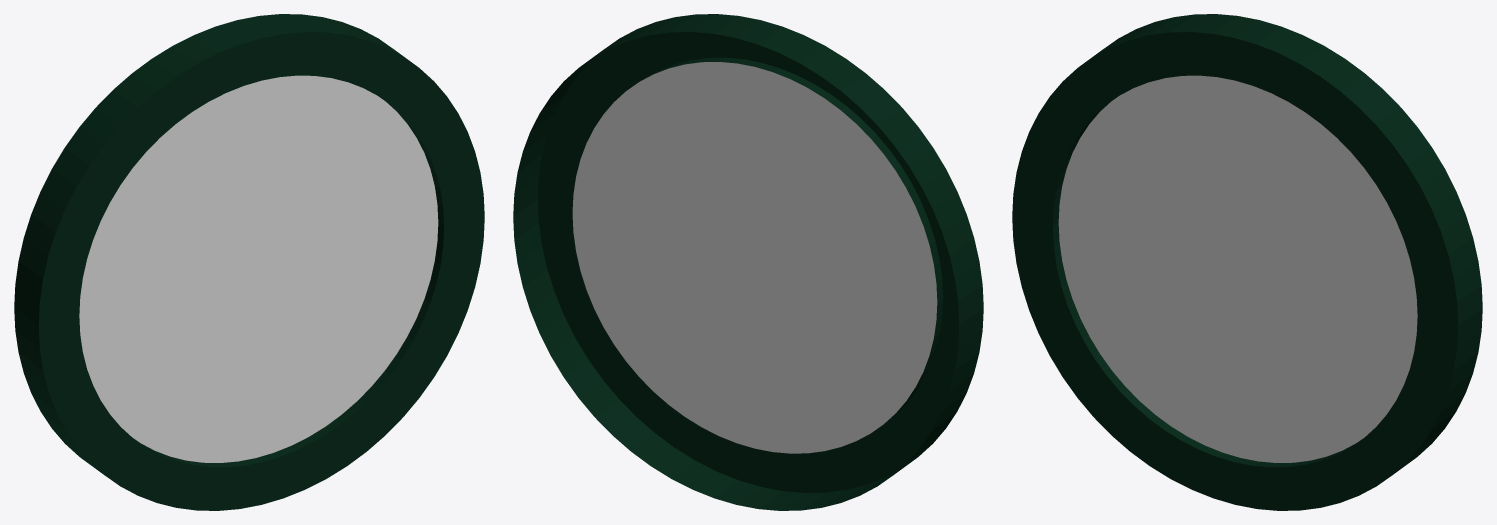
File: DotOutlined.glb
The picture shows the model from 3 angles, left to right: view 1: azimuth 30°, elevation 25°; view 2: azimuth 150°, elevation 25°; view 3: azimuth 330°, elevation 25°; orthographic projection.
Visible parts, largest first — view 1: DotOutlined; view 2: DotOutlined; view 3: DotOutlined.
Part boxes in pixels (bbox=[...]): DotOutlined: bbox=[14, 14, 484, 510]; DotOutlined: bbox=[513, 14, 983, 510]; DotOutlined: bbox=[1012, 14, 1482, 510].
Bounding box in the file's own units: 0.22 × 0.22 × 0.021.
